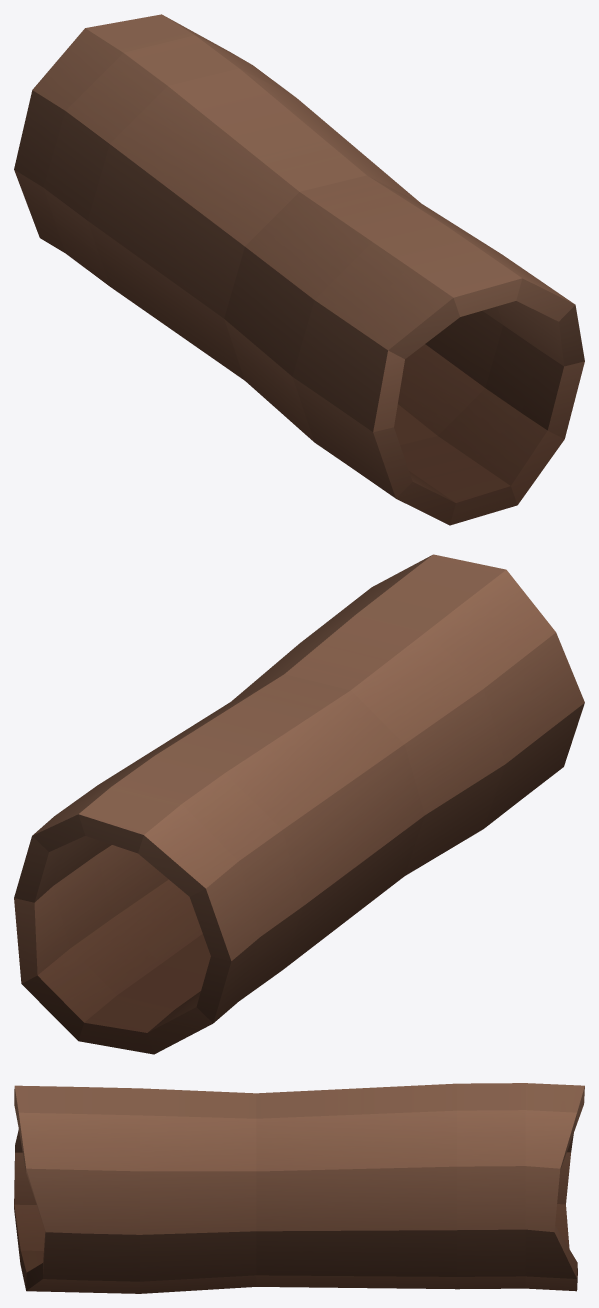
The model's file is kłoda5.fbx.
3 renders of one model, top to bottom at view 1: azimuth 30°, elevation 25°; view 2: azimuth 150°, elevation 25°; view 3: azimuth 270°, elevation 25°, orthographic. The views are drawn at different scales.
Parts seen in each view (by area): view 1: kłoda5; view 2: kłoda5; view 3: kłoda5.
Boxes of the visible parts, x1=… form: kłoda5: x1=14, y1=14, x2=584, y2=525; kłoda5: x1=14, y1=554, x2=584, y2=1054; kłoda5: x1=14, y1=1083, x2=584, y2=1293.
Size of the model in its own units: 73.49 by 71.97 by 203.
